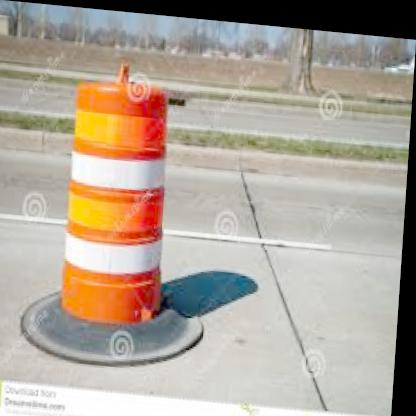obstacle: (57, 70, 179, 329)
